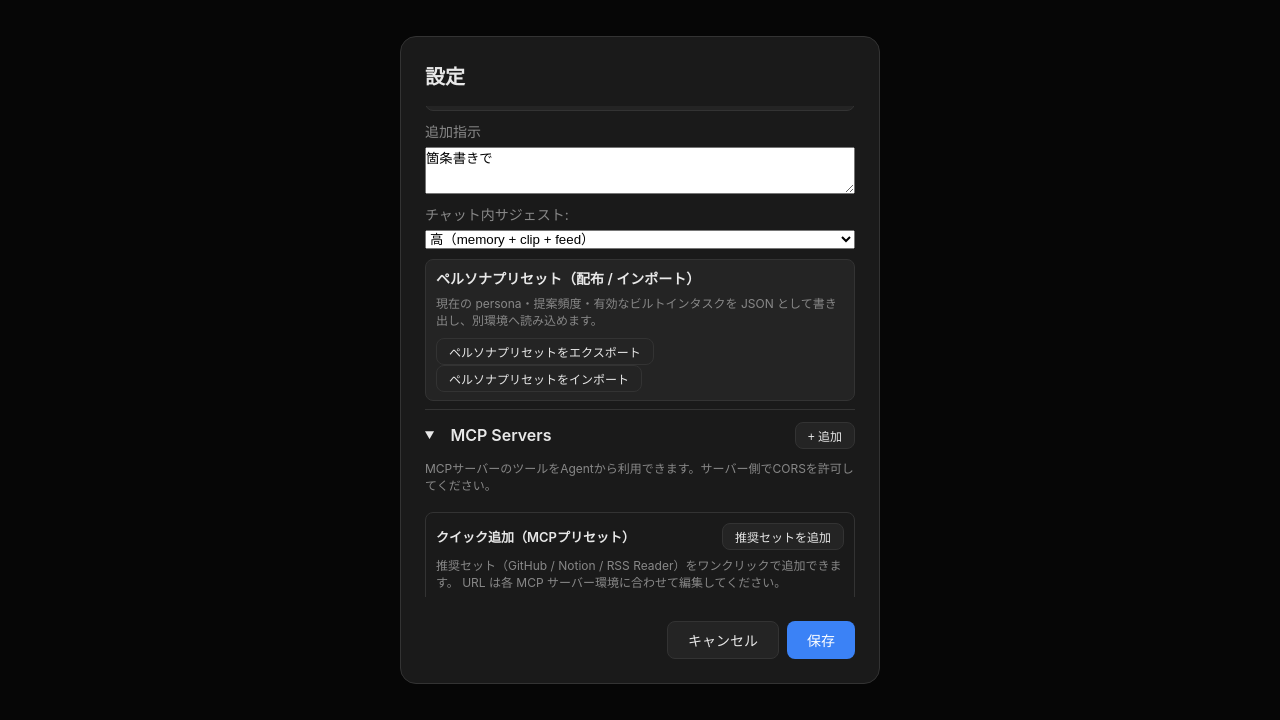
Test: SettingsModal › ペルソナプリセットをエクスポートできる
(page scrolled)
Click the button "ペルソナプリセットをエクスポート" at (545, 351), box [436, 338, 654, 365]
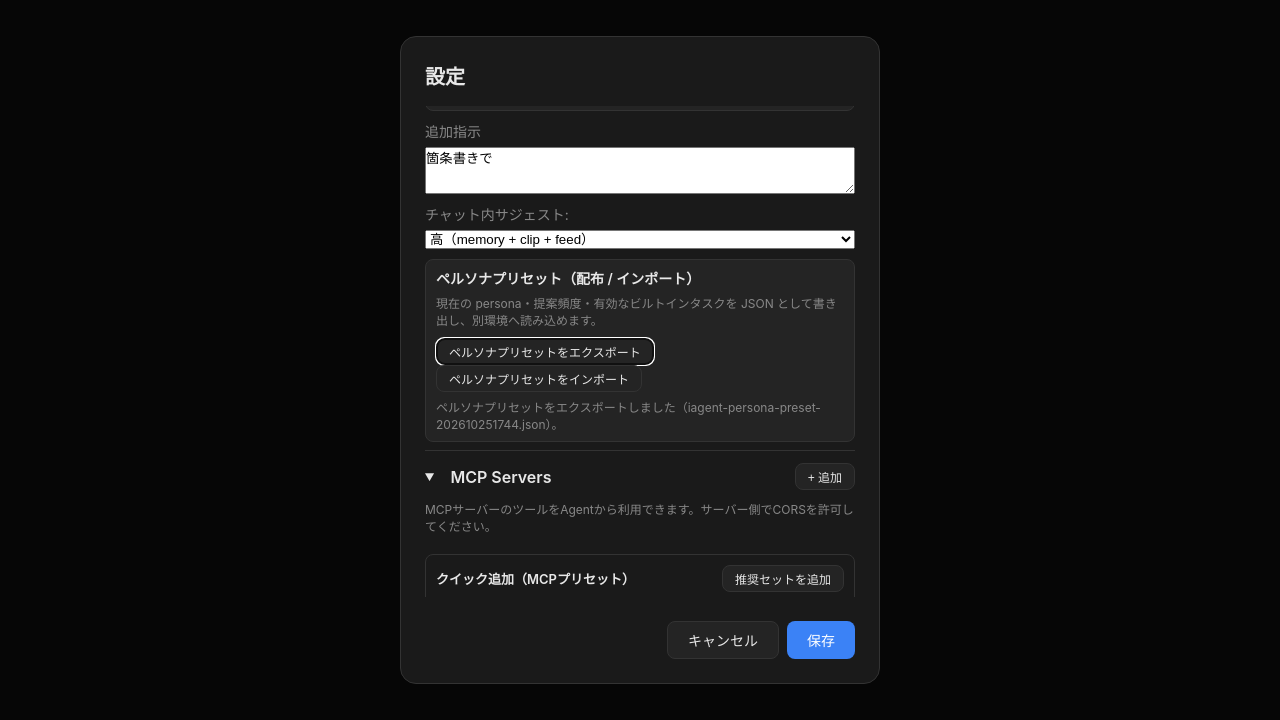
Check: the text "ペルソナプリセットをエクスポートしました" is shown, box [436, 400, 821, 432]
